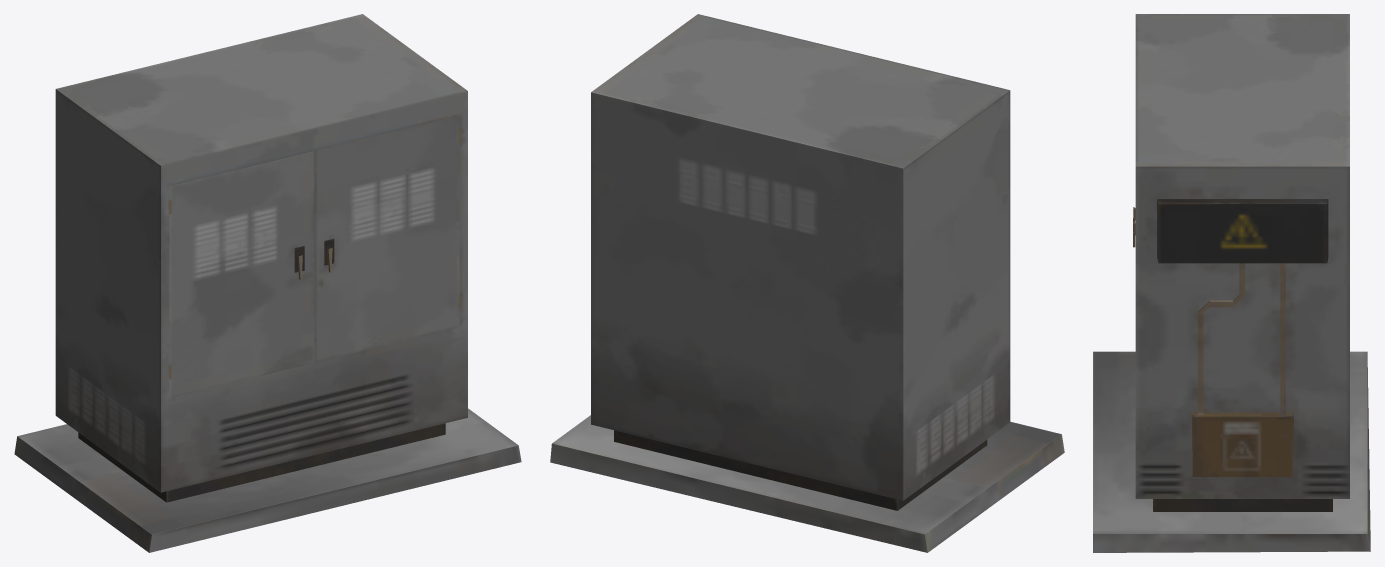
File: Generator.fbx
3 views of the same model, side by side, from view 1: azimuth 30°, elevation 25°; view 2: azimuth 150°, elevation 25°; view 3: azimuth 270°, elevation 25° (orthographic).
Visible parts, largest first — view 1: SM_Generator; view 2: SM_Generator; view 3: SM_Generator.
Boxes of the visible parts, left/top/right/bottom form: SM_Generator: left=14, top=14, right=521, bottom=552; SM_Generator: left=550, top=14, right=1064, bottom=552; SM_Generator: left=1093, top=14, right=1370, bottom=552.
Size of the model in its own units: 1.54 by 1.44 by 0.9774.
